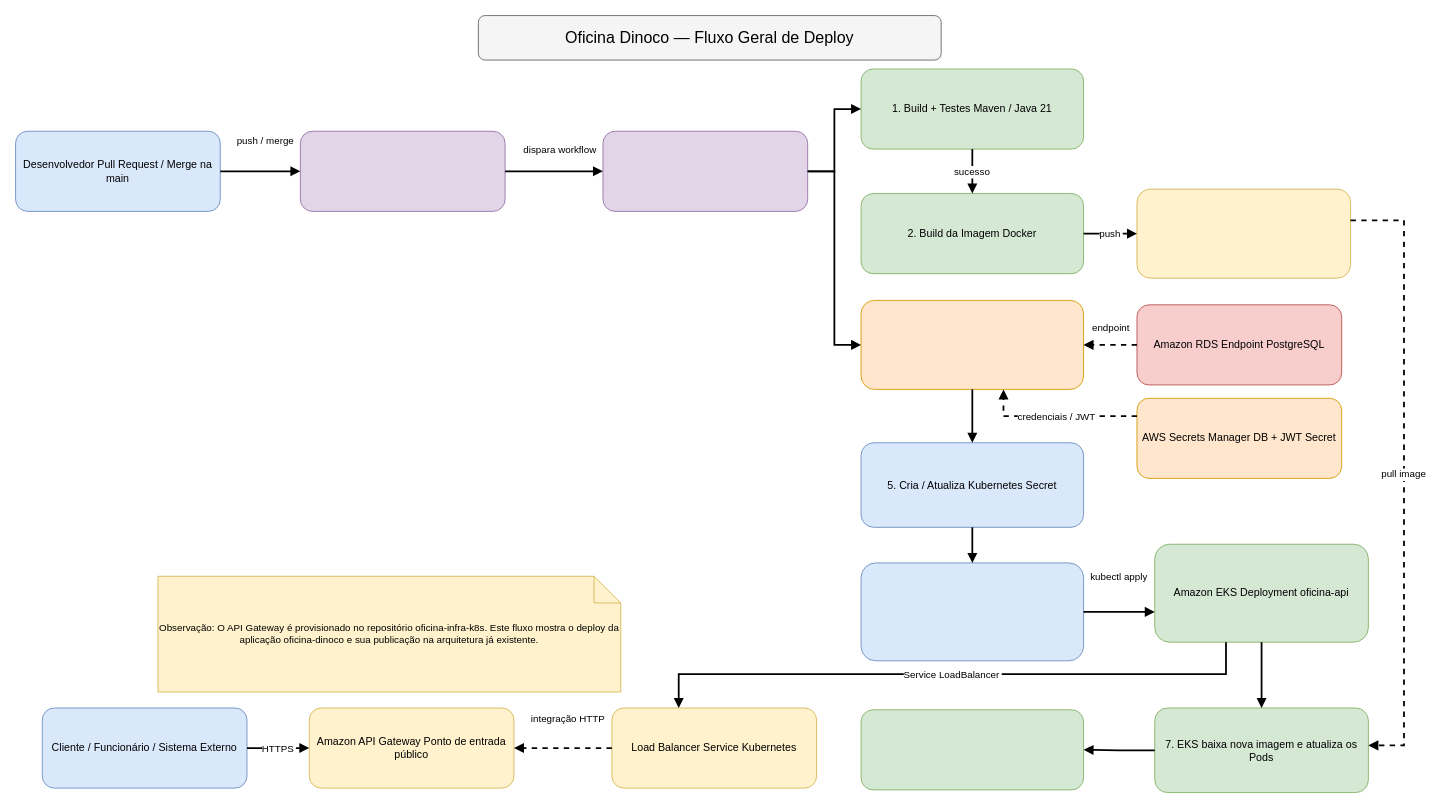
Image size: 1443x808. Some labels were removed from this diagram. The shapes that lost their labels are listed below. From the top down, each one's centre as x and y in pixels, then its label:
[402,170]: GitHub Repositório oficina-dinoco
[705,170]: GitHub Actions Pipeline de CI/CD
[1243,233]: 3. Push da imagem Amazon ECR Tag = SHA do commit
[972,344]: 4. Configura acesso AWS / EKS Obtém endpoint e segredos
[972,611]: 6. Aplica manifests ConfigMap / Deployment / Service / HPA
[972,749]: 8. Aguarda rollout Deployment saudável
